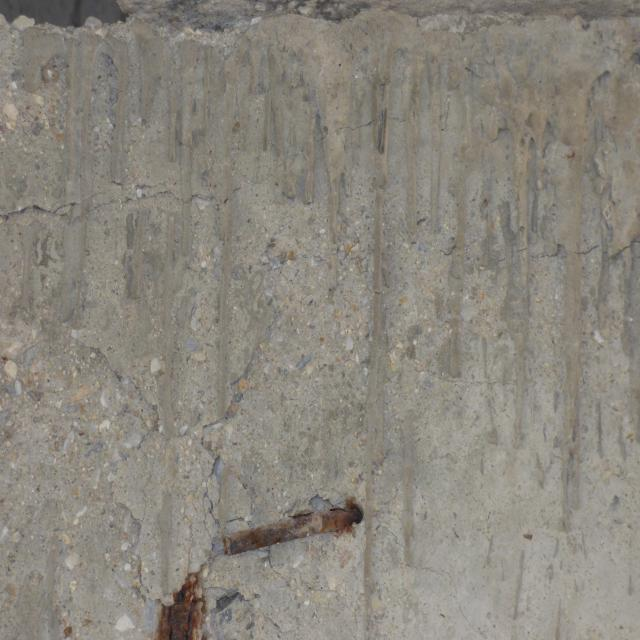corrosion: (217, 494, 392, 556), (138, 556, 222, 640)
